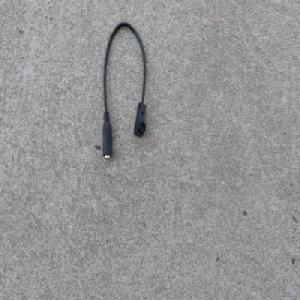Wire: (101, 20, 148, 164)
